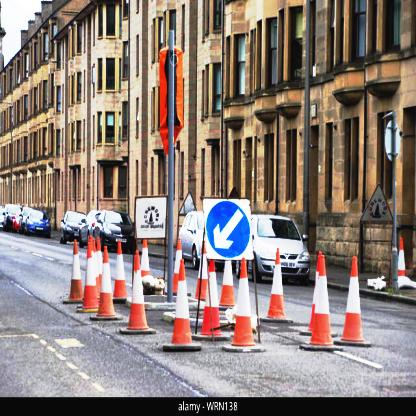Keep left: (203, 196, 254, 260)
